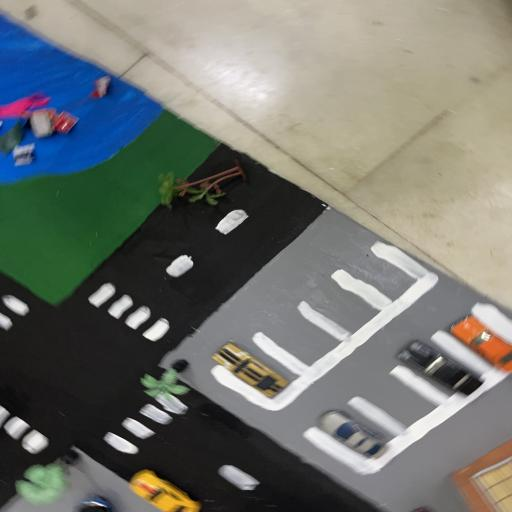fallen trees: (154, 162, 250, 204)
trash: (0, 92, 76, 166)
